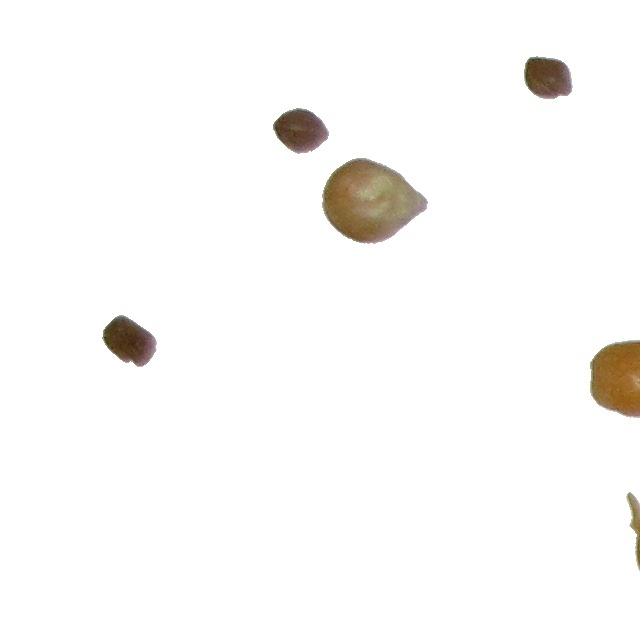buckwheat: (101, 314, 158, 368), (272, 107, 330, 155), (523, 55, 574, 100)
mais: (321, 157, 429, 245), (589, 339, 640, 419)
